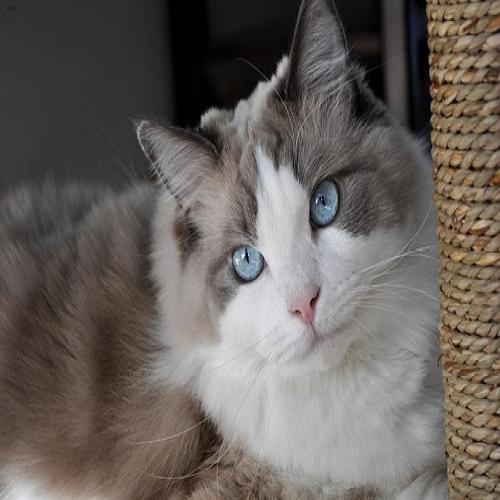ragdoll: (135, 1, 404, 398)
